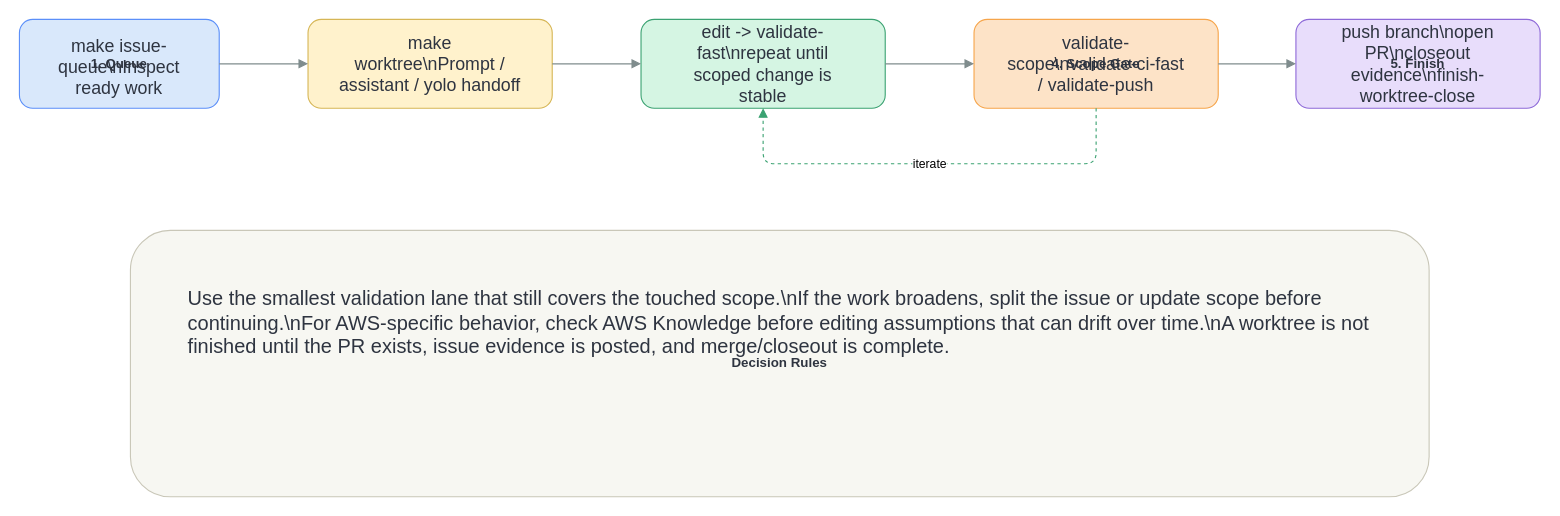
This 1560x516 diagram has some shape labels left out. The shapes that lost their labels are listed below. From the top down, each one's box as (x1, y1, x2, y2) in pixels, then its label:
(307, 18, 552, 108): 2. Allocate
(640, 18, 885, 108): 3. Fast Loop
